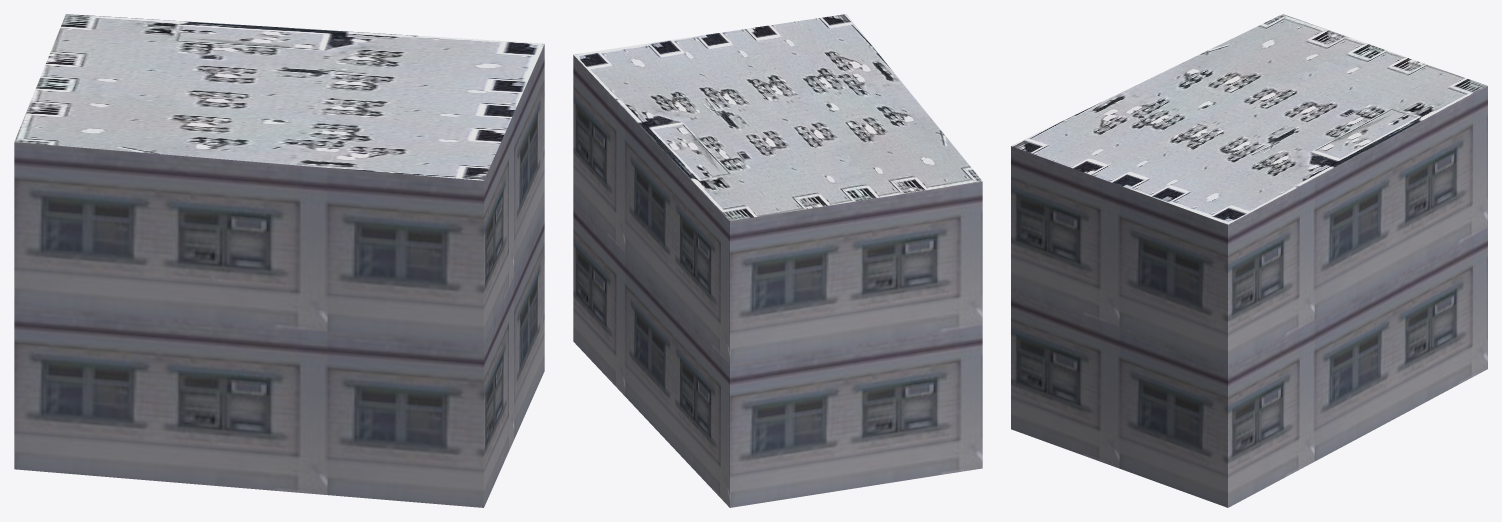
File: ResTex__1770.fbx
3 renders of one model, left to right at view 1: azimuth 30°, elevation 25°; view 2: azimuth 150°, elevation 25°; view 3: azimuth 270°, elevation 25°, orthographic. The views are drawn at different scales.
Visible parts, largest first — view 1: CityEngineMaterial_1_m, CityEngineMaterial_8_m; view 2: CityEngineMaterial_1_m, CityEngineMaterial_8_m; view 3: CityEngineMaterial_1_m, CityEngineMaterial_8_m.
Boxes of the visible parts, x1=… form: CityEngineMaterial_1_m: x1=14, y1=44, x2=544, y2=507; CityEngineMaterial_8_m: x1=14, y1=14, x2=544, y2=180; CityEngineMaterial_1_m: x1=573, y1=55, x2=982, y2=507; CityEngineMaterial_8_m: x1=573, y1=14, x2=982, y2=220; CityEngineMaterial_1_m: x1=1011, y1=86, x2=1487, y2=507; CityEngineMaterial_8_m: x1=1011, y1=14, x2=1487, y2=224.
Bounding box in the file's own units: 9.57 × 6 × 9.15.
2 materials, 2 textured.
